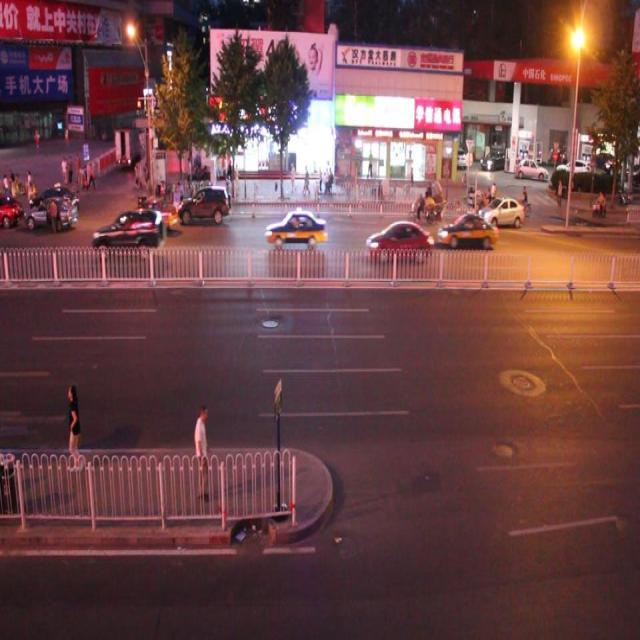car: (91, 206, 165, 259), (364, 217, 432, 265), (264, 208, 328, 249), (436, 210, 496, 252), (175, 184, 230, 228), (124, 194, 178, 232), (22, 199, 78, 234), (477, 195, 524, 229), (32, 182, 80, 215)
